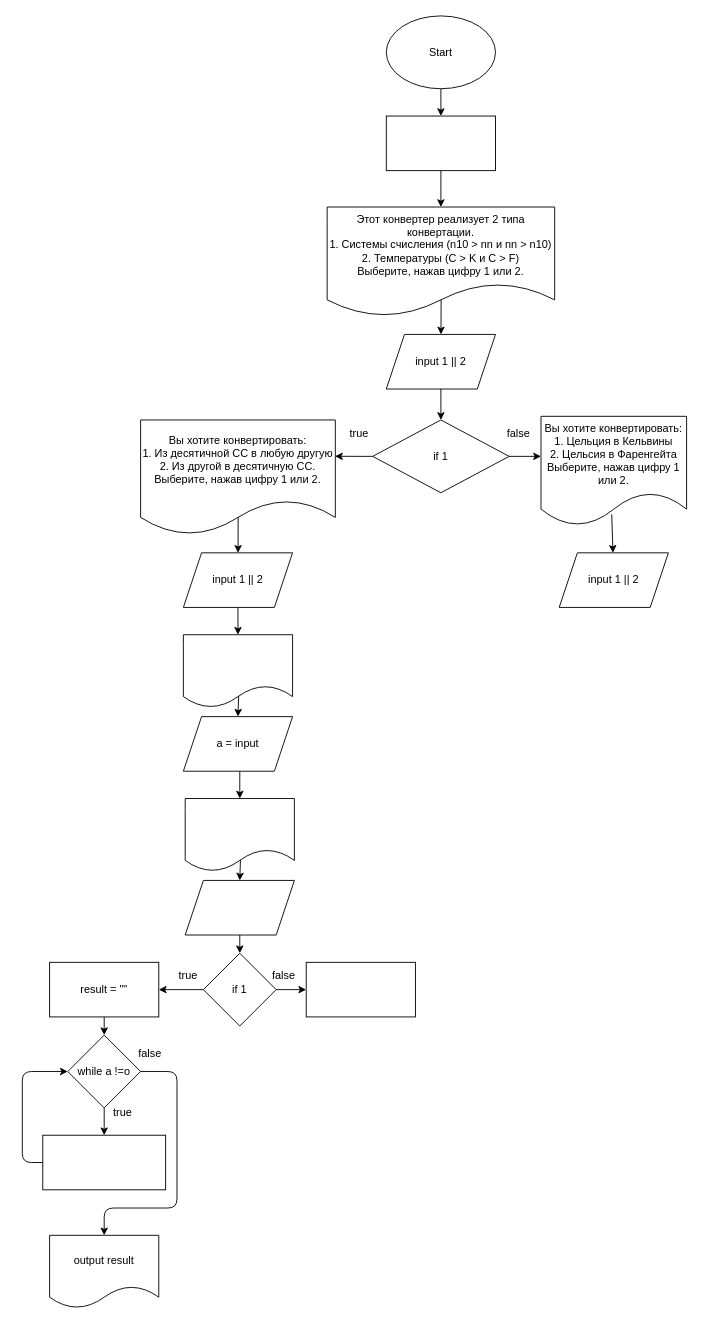
This 703x1324 diagram has some shape labels left out. Here are the shapes that lost their labels. From the top down, the box of each, then its label:
(385, 115, 495, 171): int a; String b; int radix; String result;
(182, 634, 293, 708): Введите число для конвертации:
(184, 798, 294, 871): Введите основание системы счисления
(184, 880, 294, 935): radix = input
(305, 961, 415, 1017): Вычисление из любой в 10
(42, 1134, 166, 1190): result = Integer.toString(a % radix) + result a = a / radix
